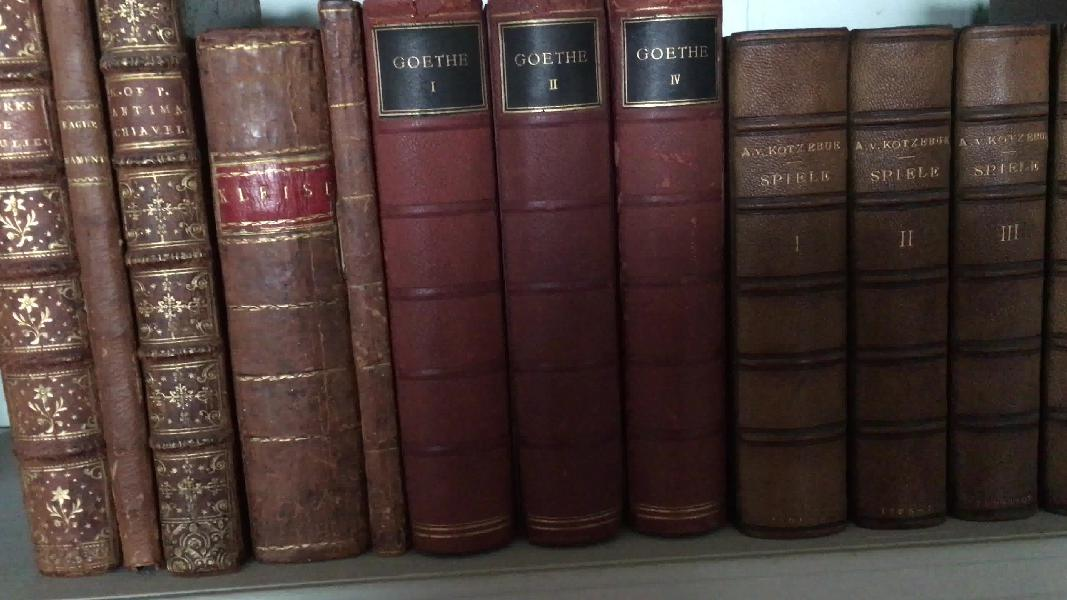Aa6-10: (304, 1, 422, 573)
Aa6-11_13: (362, 9, 740, 566)
Aa6-14_17: (724, 34, 1067, 543)
Aa6-6: (2, 12, 111, 582)
Aa6-7: (33, 2, 185, 573)
Aa6-8: (86, 1, 260, 575)
Aa6-9: (185, 21, 373, 571)
